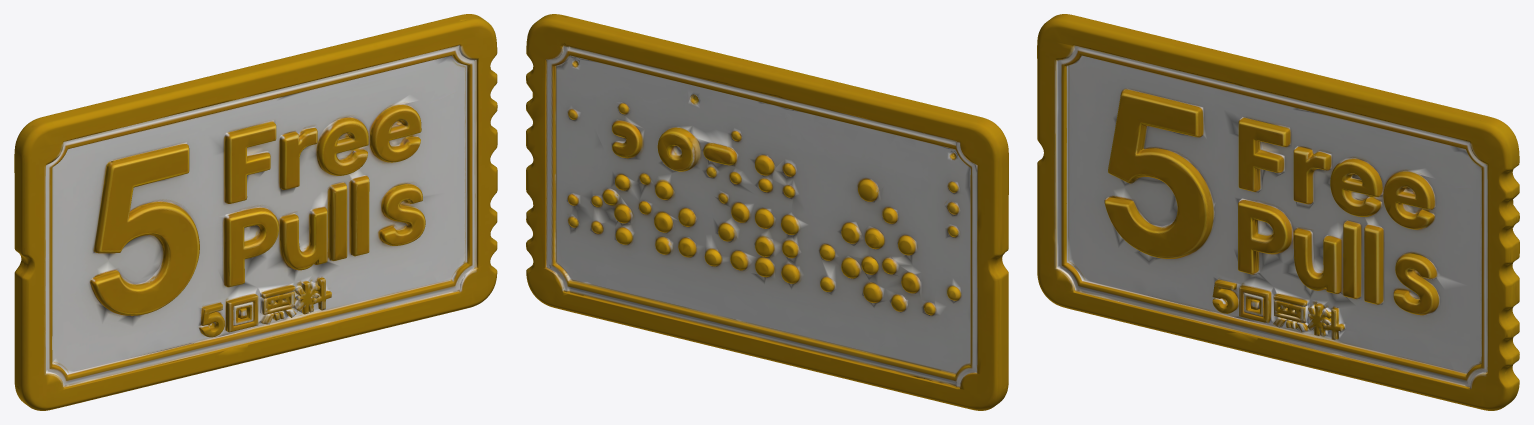
Rendered from 5-free-pulls.glb.
The picture shows the model from 3 angles, left to right: view 1: azimuth 30°, elevation 25°; view 2: azimuth 150°, elevation 25°; view 3: azimuth 330°, elevation 25°; orthographic projection.
Parts seen in each view (by area): view 1: node_0; view 2: node_0; view 3: node_0.
Boxes of the visible parts, <box> form: node_0: <box>14,14,497,410</box>; node_0: <box>526,14,1008,410</box>; node_0: <box>1037,14,1519,410</box>.
Size of the model in its own units: 1.08 by 0.6226 by 0.0665.
1 material, 1 textured.
